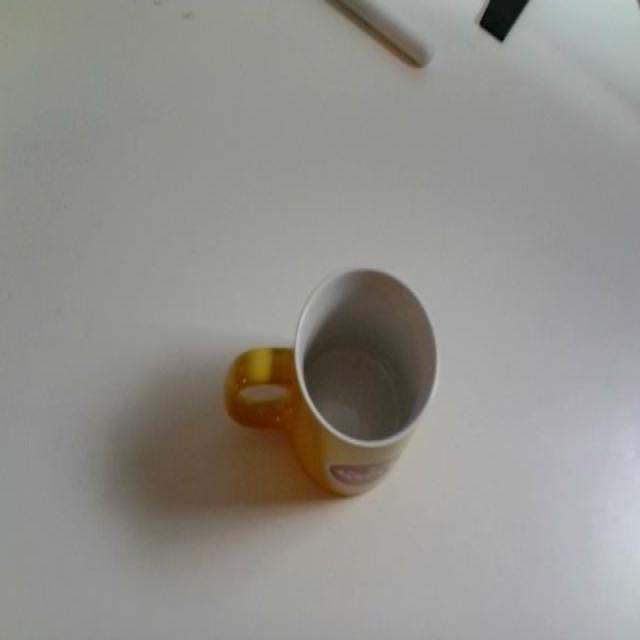cup: (219, 248, 449, 508)
